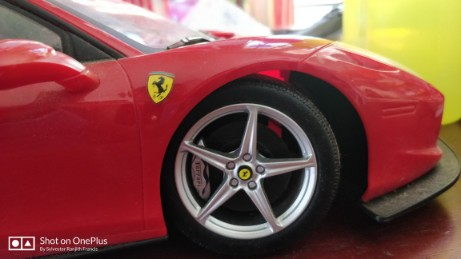unaligned_wheel: (164, 75, 340, 248)
